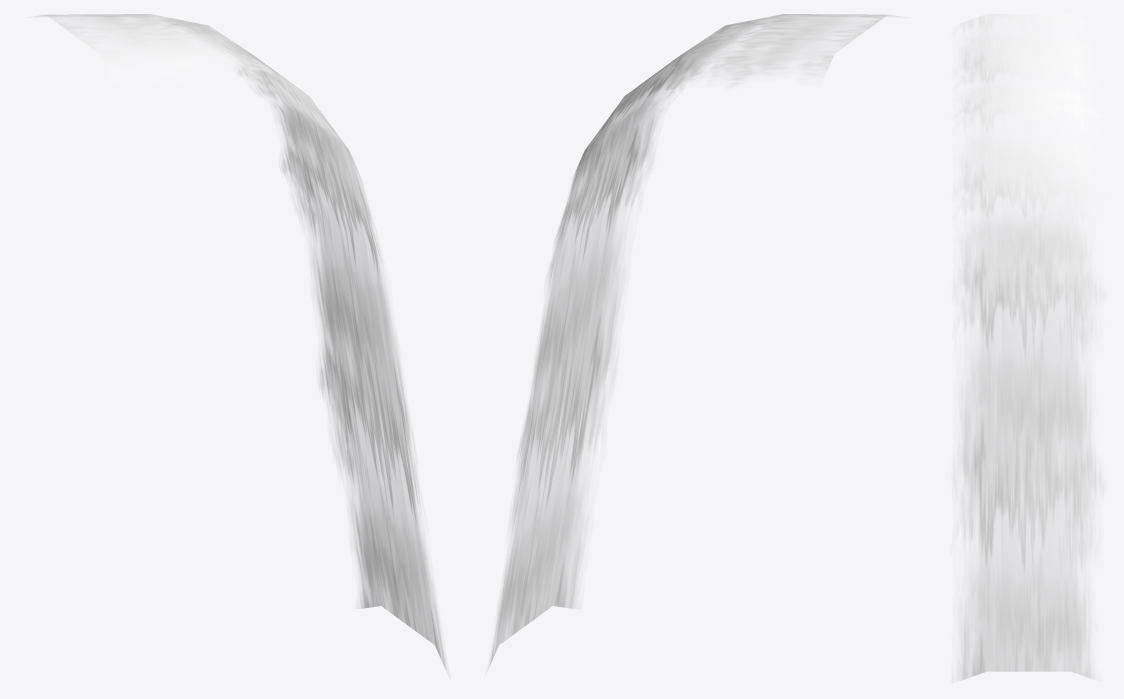
File: oa_ho_waterfall01_02.glb
3 renders of one model, left to right at view 1: azimuth 30°, elevation 25°; view 2: azimuth 150°, elevation 25°; view 3: azimuth 270°, elevation 25°, orthographic. The views are drawn at different scales.
Visible parts, largest first — view 1: oa_ho_waterfall01_02; view 2: oa_ho_waterfall01_02; view 3: oa_ho_waterfall01_02.
Part boxes in pixels (x1=…): oa_ho_waterfall01_02: x1=33, y1=14, x2=447, y2=672; oa_ho_waterfall01_02: x1=488, y1=14, x2=905, y2=668; oa_ho_waterfall01_02: x1=952, y1=14, x2=1104, y2=682.
Bounding box in the file's own units: 19.47 × 37.7 × 10.12.
1 material, 1 textured.
